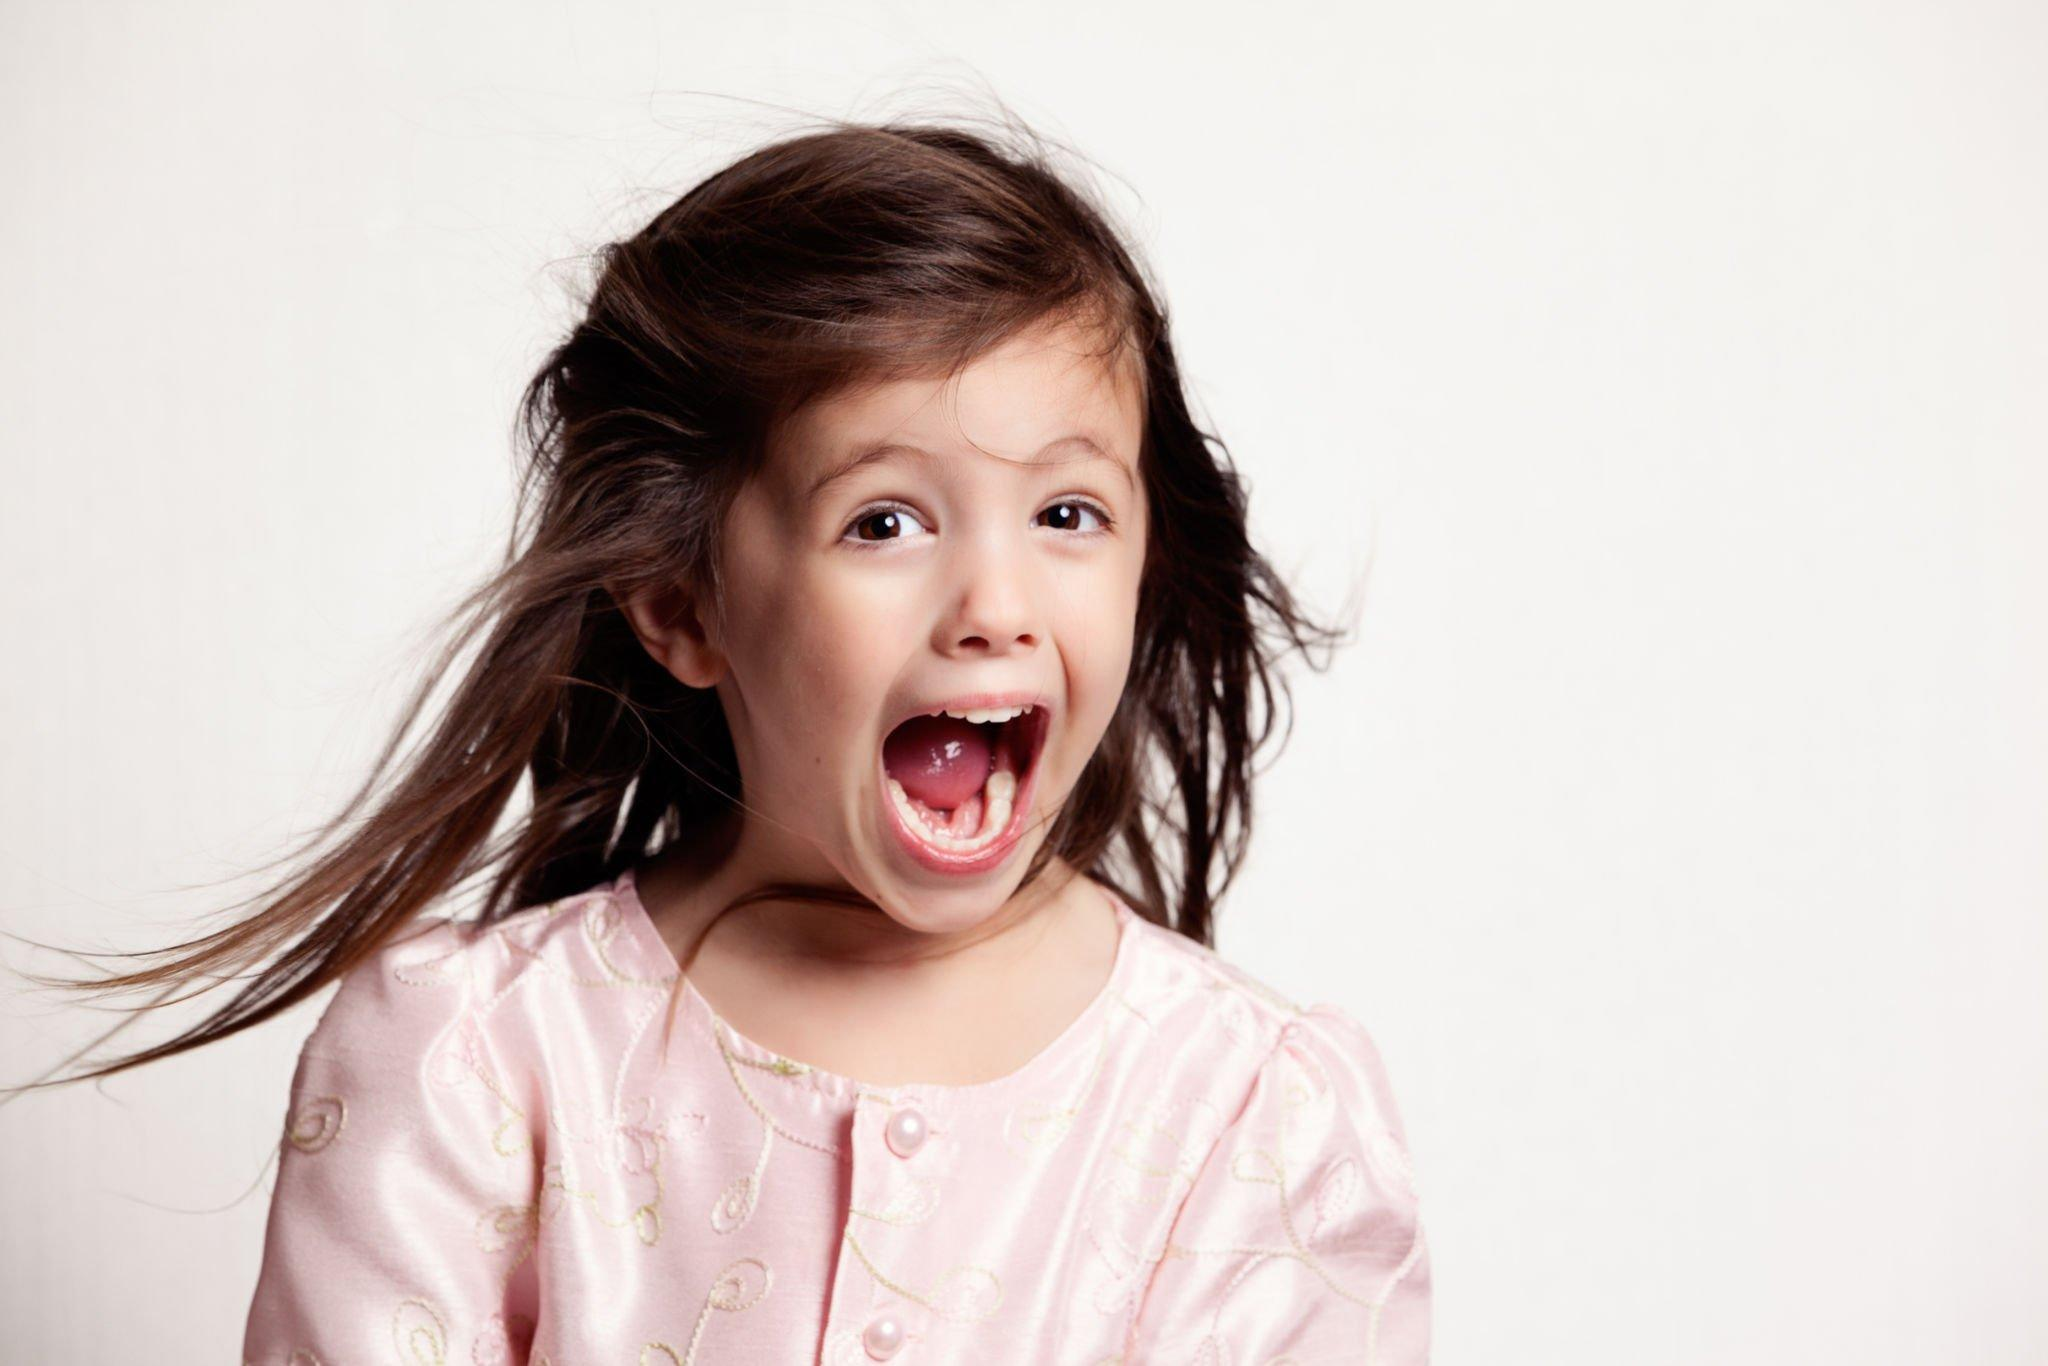Healthy: (646, 207, 1205, 989)
